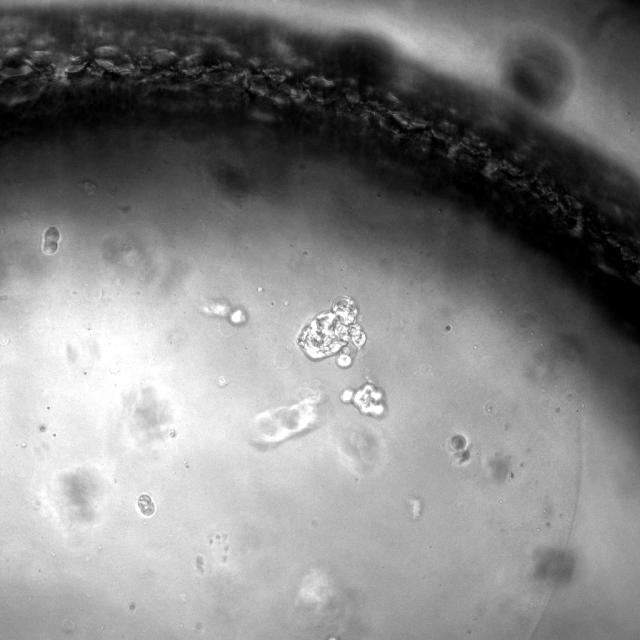organoid: (296, 296, 366, 368), (341, 381, 384, 417), (41, 226, 60, 255), (137, 493, 155, 517), (451, 434, 466, 450)
